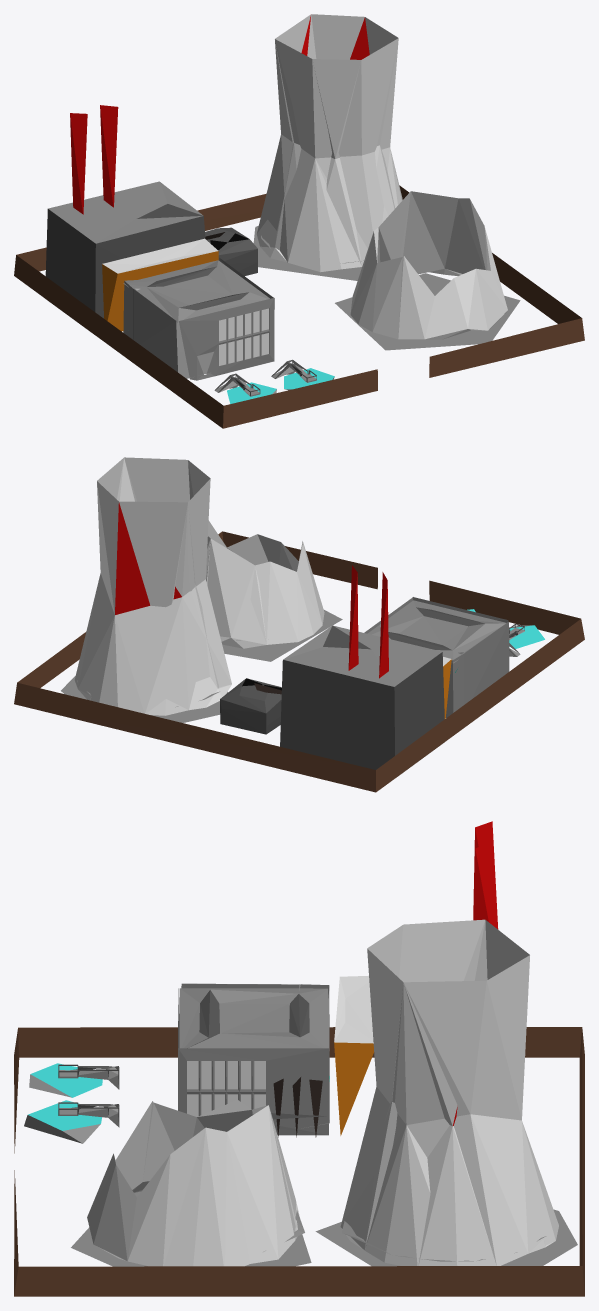
File: powerLOD2.fbx
3 views of the same model, one above another, from view 1: azimuth 30°, elevation 25°; view 2: azimuth 150°, elevation 25°; view 3: azimuth 270°, elevation 25° (orthographic). The views are drawn at different scales.
Parts seen in each view (by area): view 1: Plane; view 2: Plane; view 3: Plane.
Boxes of the visible parts, x1,y1,x2,y2 form: Plane: (14, 14, 584, 428); Plane: (14, 457, 584, 792); Plane: (14, 821, 584, 1296).
Size of the model in its own units: 7238 by 4103 by 7238.
